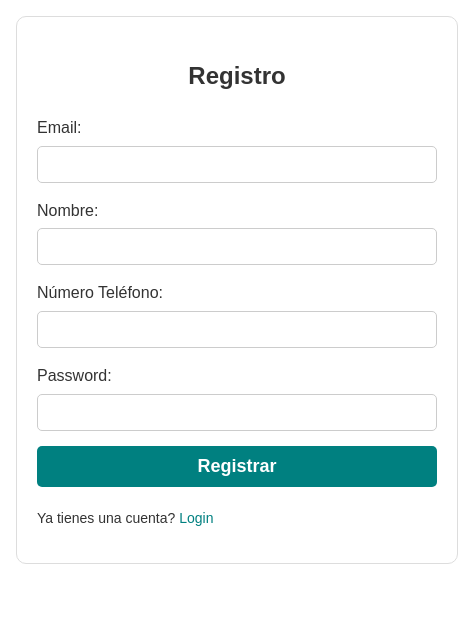
Test case: RegisterPage › debería registrar al usuario correctamente y redirigir a la página de login
The width and height of the screenshot is (475, 627).
// Llenar los campos del formulario
Type "usuario@prueba.com" into the field labelled "Email:".
click(237, 164); type("usuario@prueba.com")  # box [37,146,437,183]
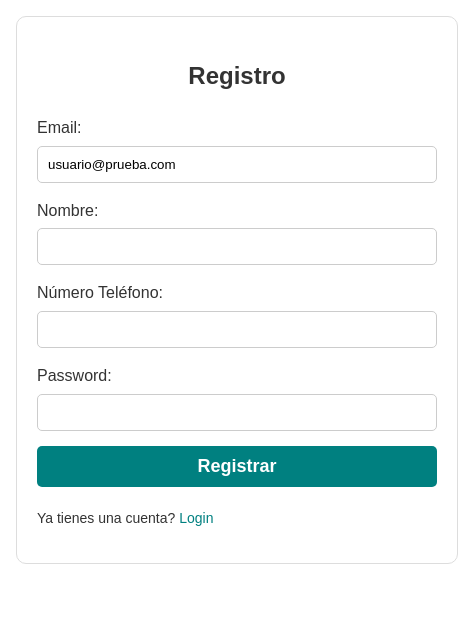
Type "Usuario de prueba" into the field labelled "Nombre:".
click(237, 247); type("Usuario de prueba")  # box [37,228,437,266]
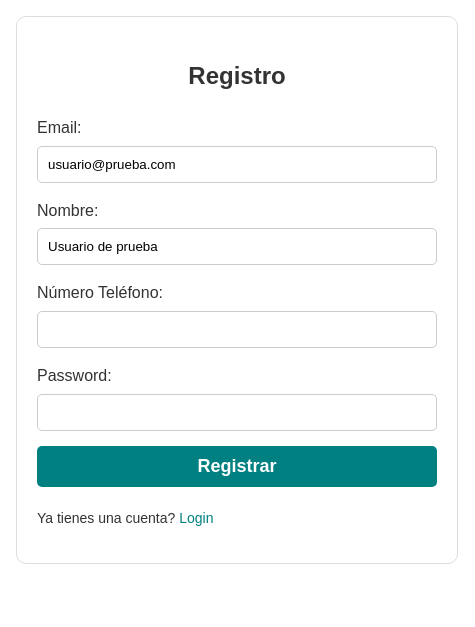
Type "123456789" into the field labelled "Número Teléfono:".
click(237, 330); type("123456789")  # box [37,311,437,348]
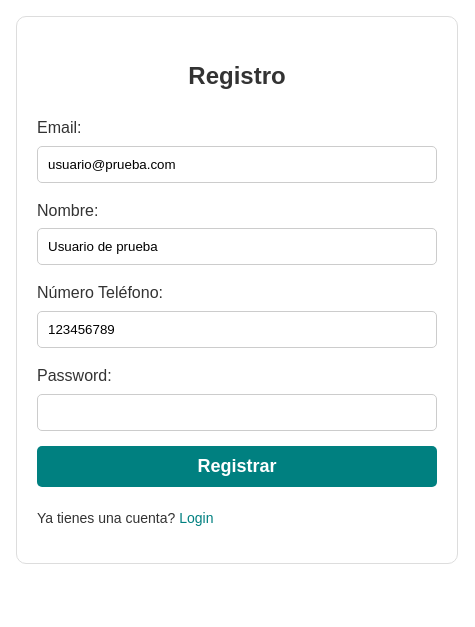
Type "password123" into the password field labelled "Password:".
click(237, 412); type("password123")  # box [37,394,437,431]
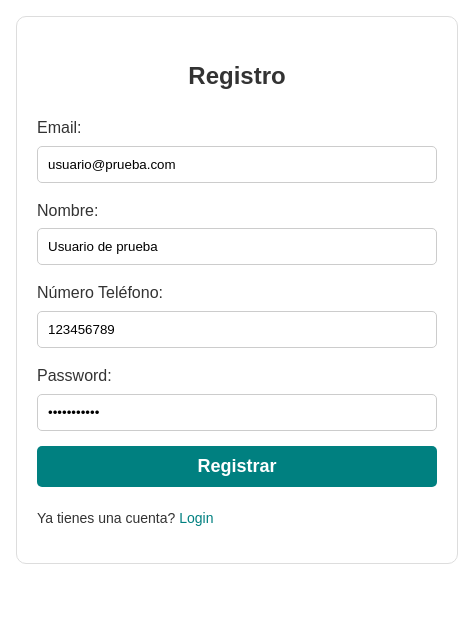
// Hacer clic en el botón de registro
Click the button "Registrar".
click(237, 466)  # box [37,446,437,487]
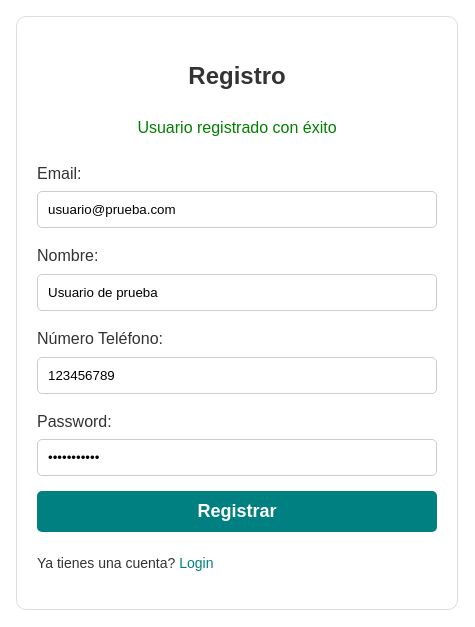
Check: the text "Usuario registrado con éxito" is shown, box [137,119,337,136]
